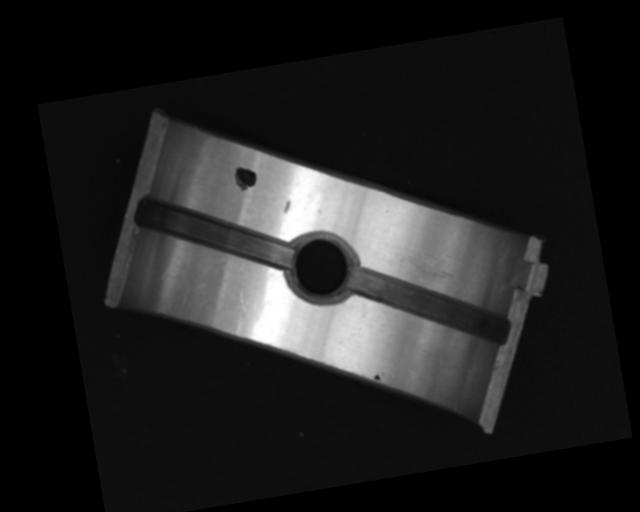blot: (232, 163, 259, 192), (372, 372, 382, 383)
bruise: (227, 289, 254, 337), (281, 198, 291, 214)
gap: (346, 246, 511, 365), (134, 175, 294, 289)
hole: (283, 226, 361, 309)
scratch: (388, 234, 473, 292)
